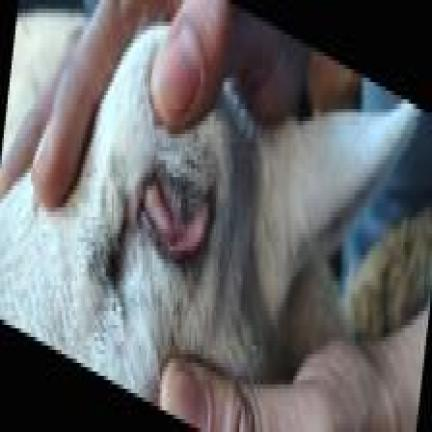goat-eye-anemia-22222222: (141, 164, 239, 281)
